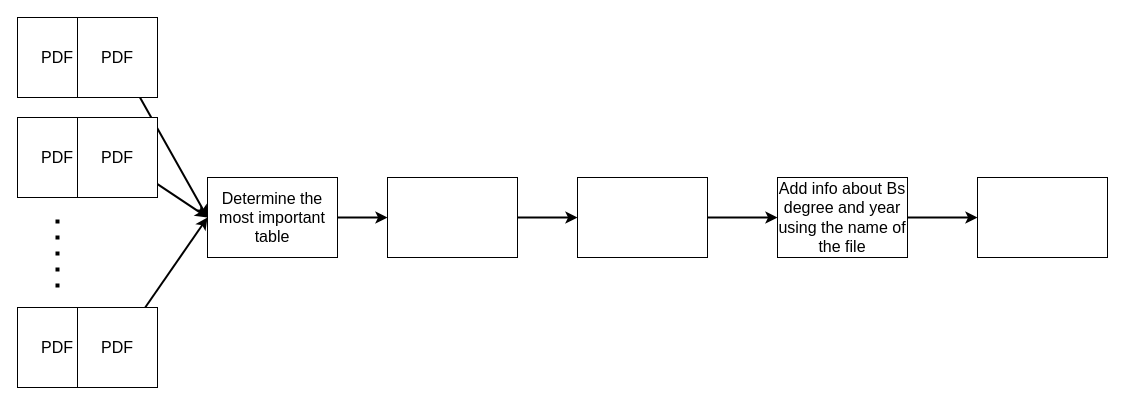
The diagram is 1125 pixels wide and 405 high, and some of its shapes have lost their labels. The box of each missing label's shape, as (x1, y1, x2, y2) in pixels:
Extract table: (386, 176, 518, 258)
Save period, ICFES result, average and admission state: (576, 176, 708, 258)
Store info in mongo: (976, 176, 1108, 258)
